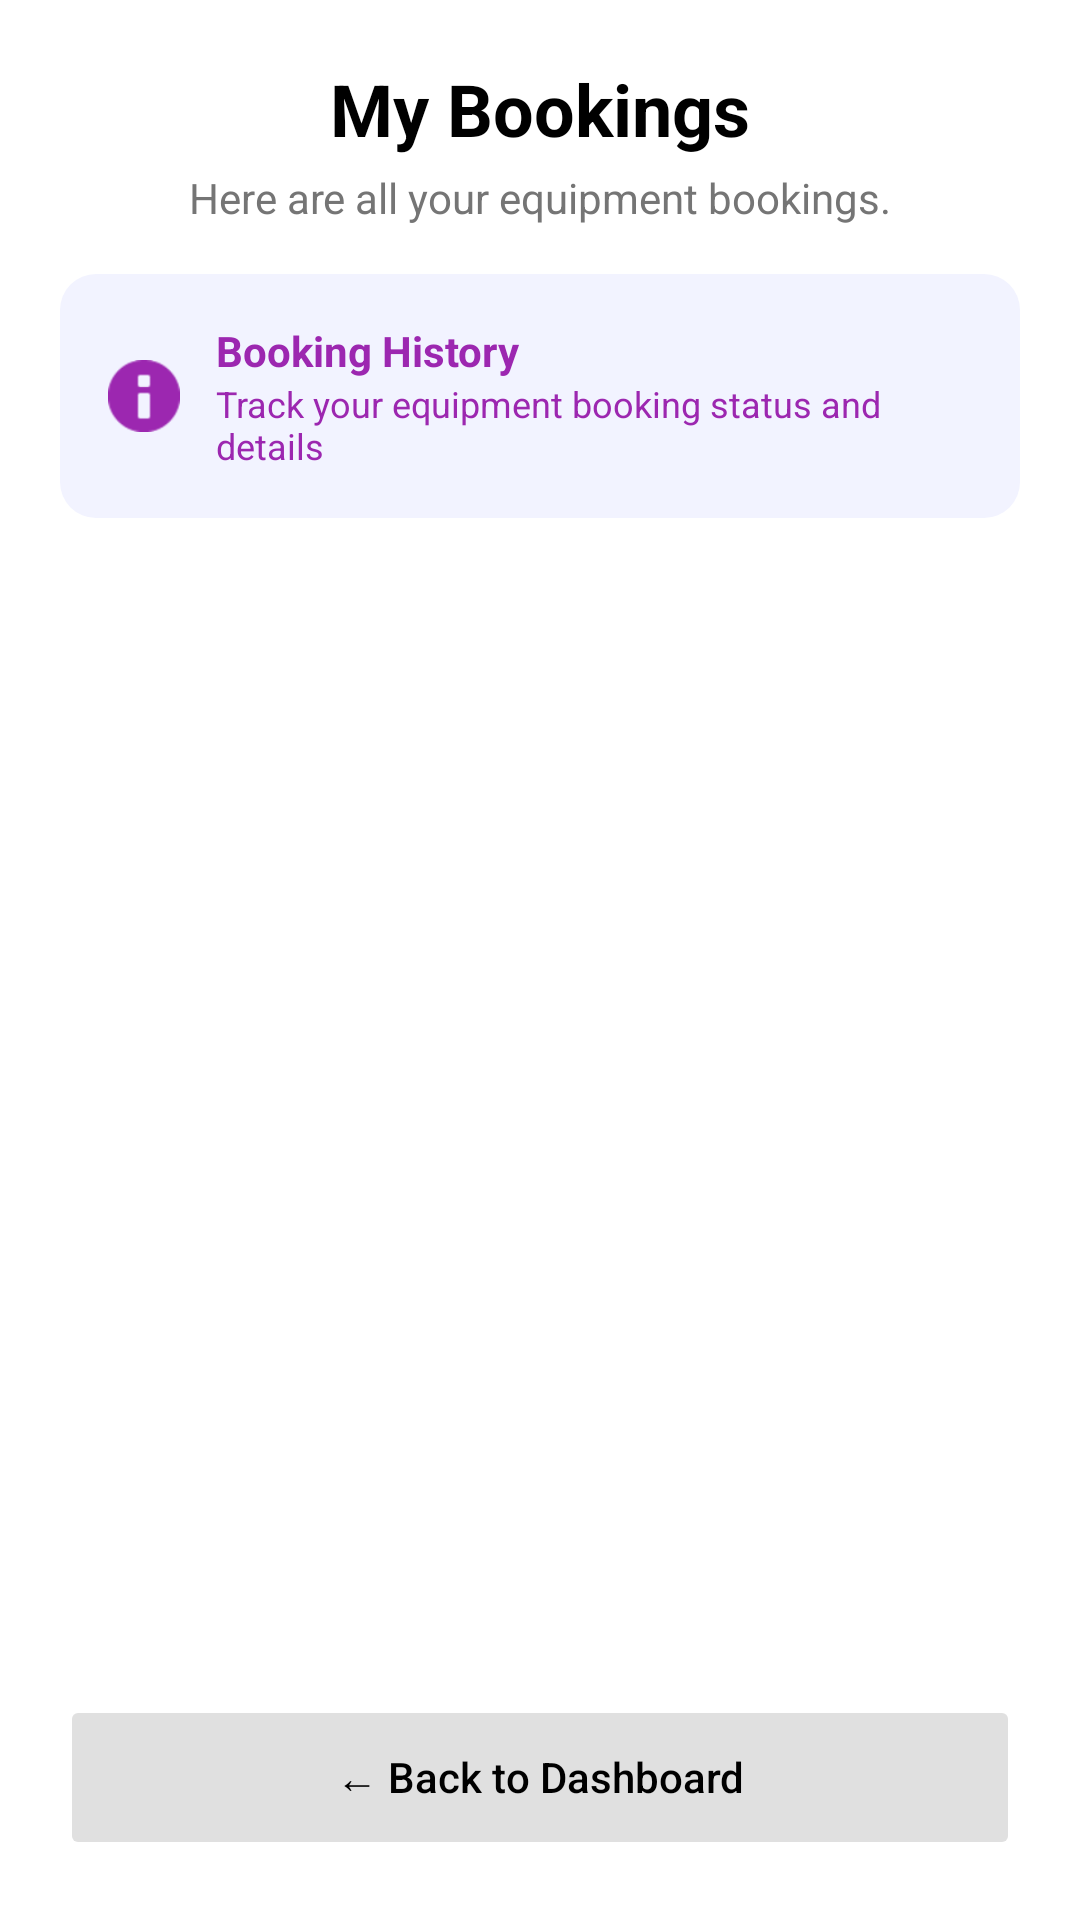

Icons on this 1080×1920 Android screen, each with the point to tap as point (x, y):
info: point (144, 396)
